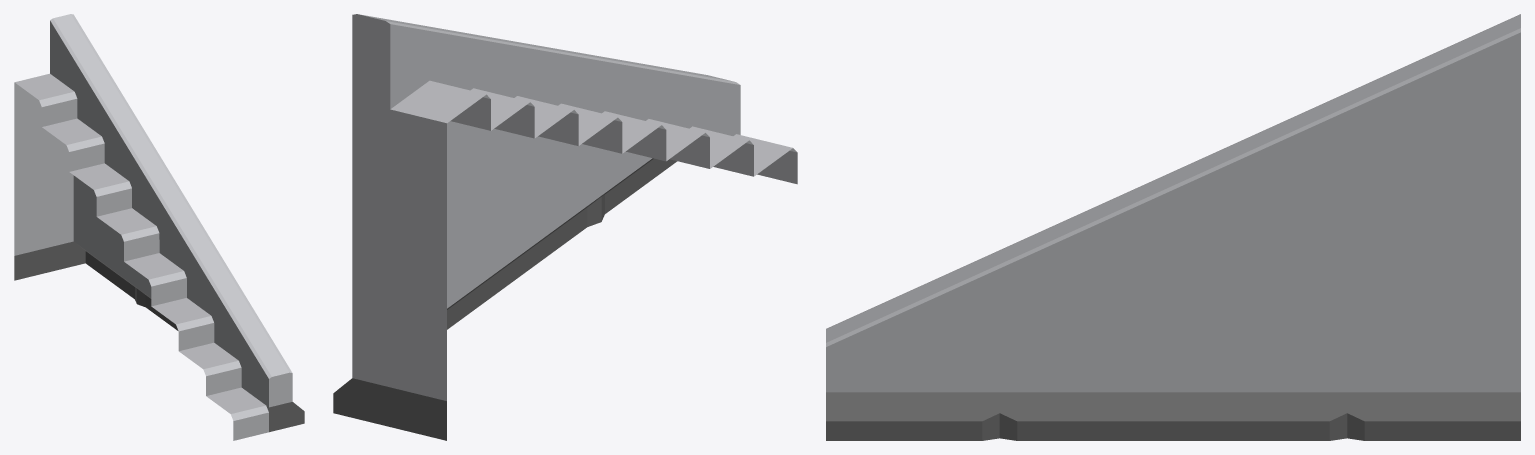
The model's file is Stairs_Long_Modular_Right.fbx.
3 renders of one model, left to right at view 1: azimuth 30°, elevation 25°; view 2: azimuth 150°, elevation 25°; view 3: azimuth 270°, elevation 25°, orthographic. The views are drawn at different scales.
Parts seen in each view (by area): view 1: Stairs_Long_Modular_Right; view 2: Stairs_Long_Modular_Right; view 3: Stairs_Long_Modular_Right.
Part boxes in pixels (<box>): Stairs_Long_Modular_Right: <box>14,14,304,440</box>; Stairs_Long_Modular_Right: <box>333,14,797,440</box>; Stairs_Long_Modular_Right: <box>826,14,1520,440</box>.
Bounding box in the file's own units: 0.291 × 0.9894 × 1.55.
1 material, 1 textured.
